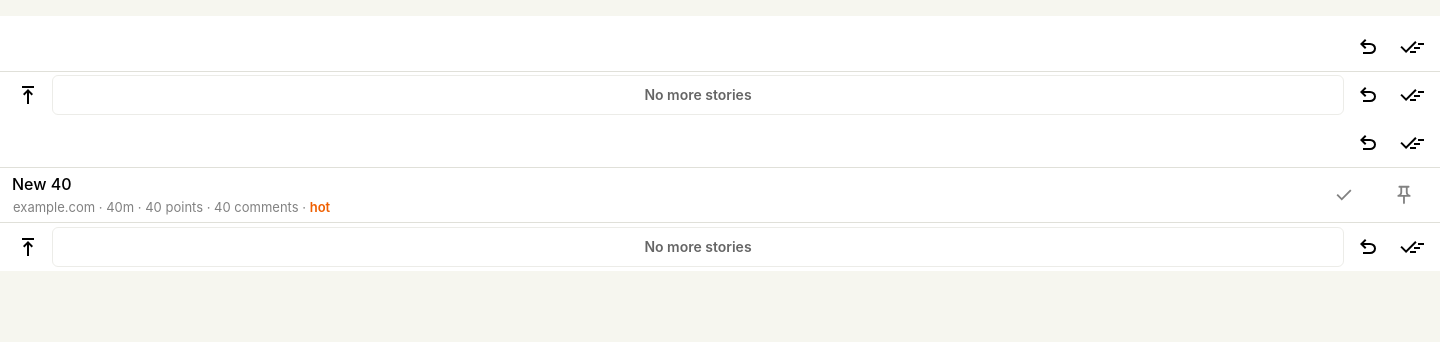
Test: <StoryList> auto-dismiss on scroll › does not let two feeds share an undo batch (unique burst keys)
Later steps or results of the test are not shown.
(page scrolled)
Expected: the text "New 30" is not shown
Step 1. Click the 1st button with test id "undo-btn-bottom" → (1368, 95), box [1348, 75, 1388, 115]
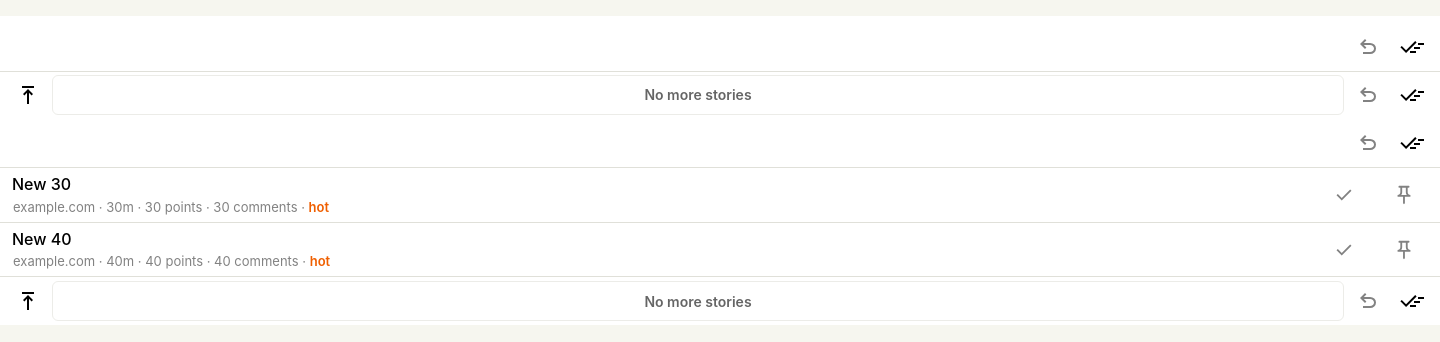
Expected: the text "New 30" is shown, [12, 174, 71, 194]
